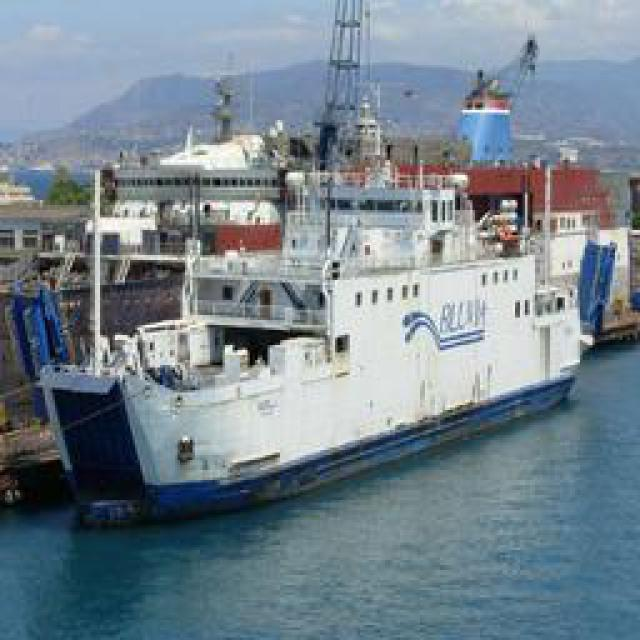Ship: (59, 17, 594, 530)
